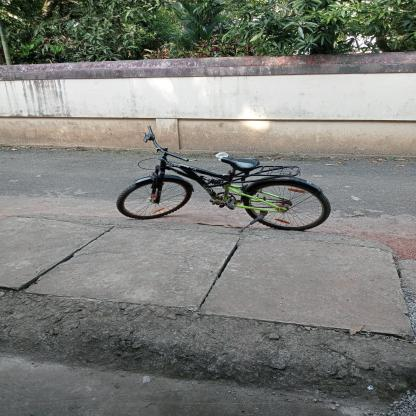bike: (112, 122, 343, 244)
